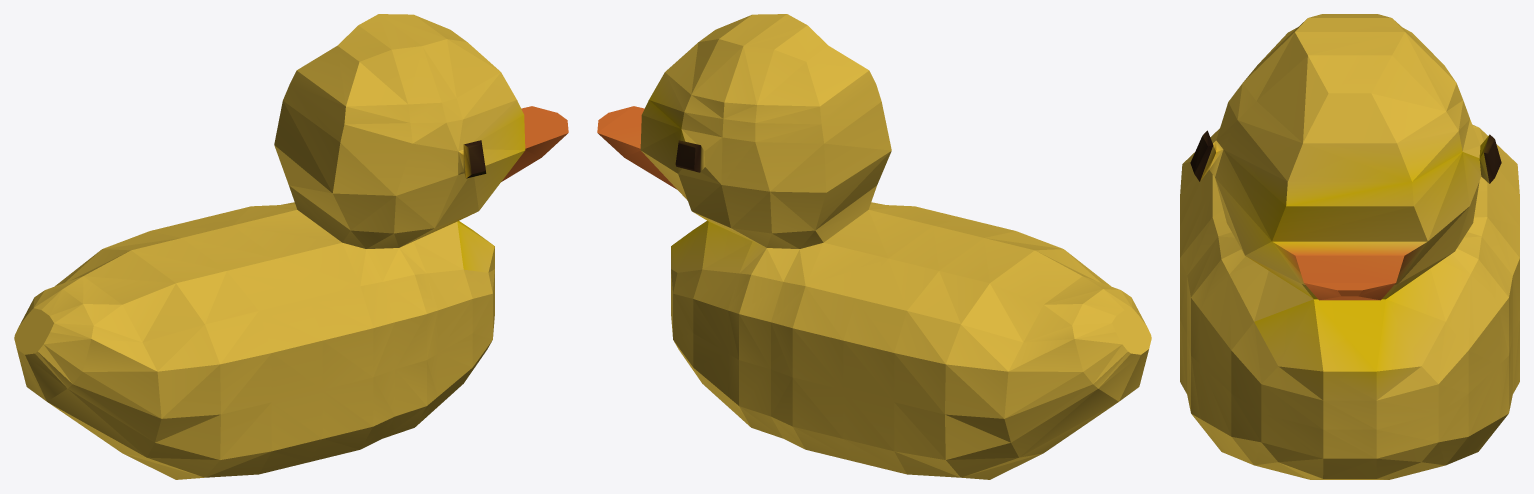
File: duck.dae
3 renders of one model, left to right at view 1: azimuth 30°, elevation 25°; view 2: azimuth 150°, elevation 25°; view 3: azimuth 270°, elevation 25°, orthographic. The views are drawn at different scales.
Visible parts, largest first — view 1: pCube1; view 2: pCube1; view 3: pCube1.
Part boxes in pixels (x1,y1,x2,y2): pCube1: (14, 14, 568, 479); pCube1: (597, 14, 1151, 479); pCube1: (1180, 14, 1519, 479).
Size of the model in its own units: 10.99 by 4.74 by 7.24.
